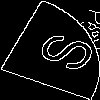S: (24, 24, 99, 75)
